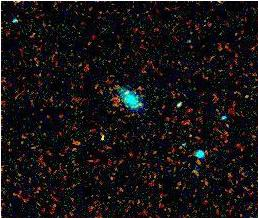star: (58, 129, 88, 159)
